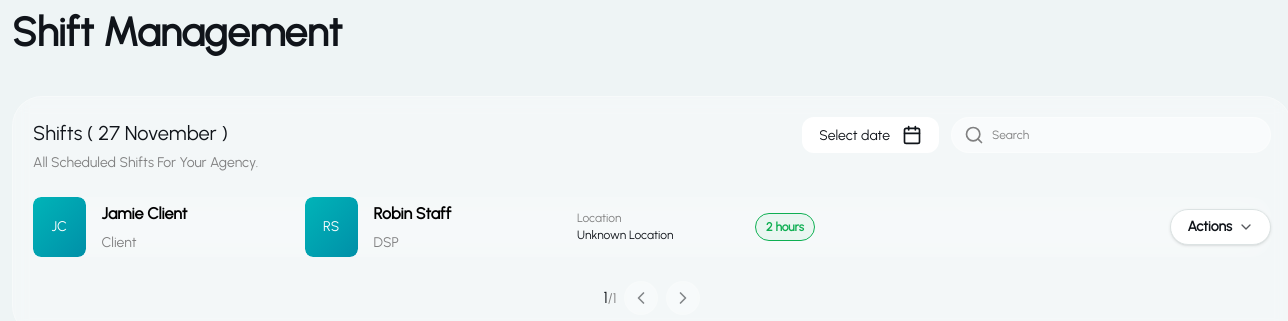
Test case: shared operational shift pages › supports a locked read-only client scope in the shared shift list
The image size is (1288, 321).
Click the button with aria-label "Shift actions for Jamie Client" at point(1221, 227), box [1170,209,1271,245]
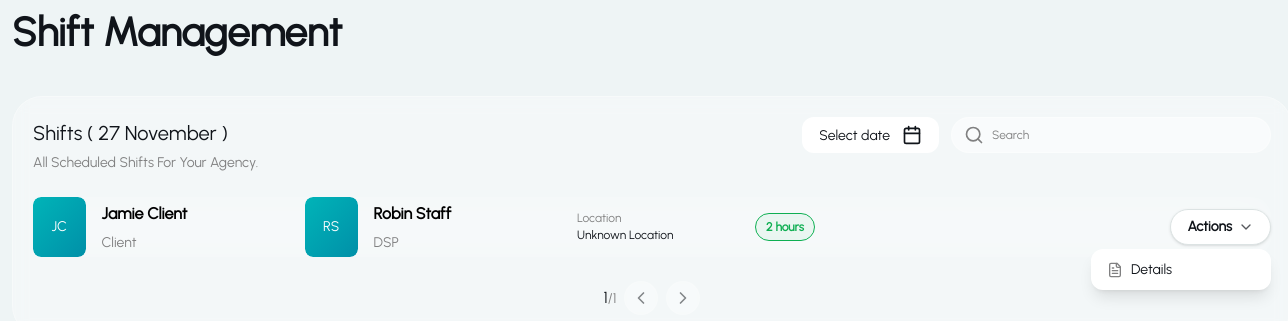
Expected: the menu items read "Details", in this order, [1107,261,1172,278]
